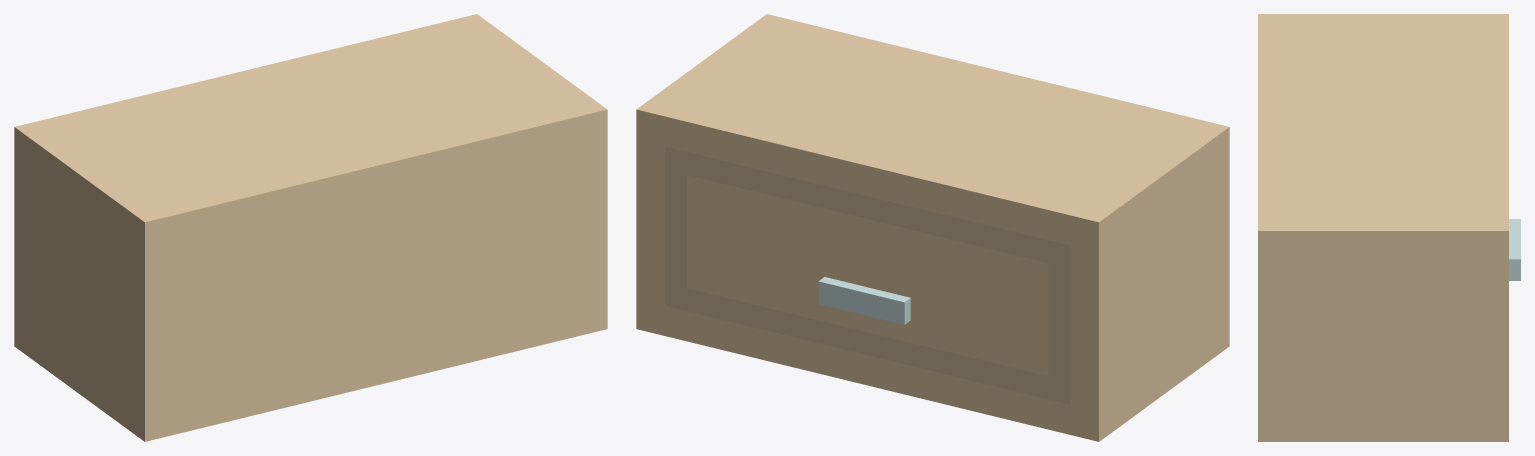
File: kitchenCabinetUpperLow.glb
3 renders of one model, left to right at view 1: azimuth 30°, elevation 25°; view 2: azimuth 150°, elevation 25°; view 3: azimuth 270°, elevation 25°, orthographic. The views are drawn at different scales.
Visible parts, largest first — view 1: kitchenCabinetUpperLow; view 2: kitchenCabinetUpperLow; view 3: kitchenCabinetUpperLow.
Boxes of the visible parts, box(x1,y1,x2,y2) form: kitchenCabinetUpperLow: box(14, 14, 607, 441); kitchenCabinetUpperLow: box(636, 14, 1229, 441); kitchenCabinetUpperLow: box(1258, 14, 1520, 441).
Bounding box in the file's own units: 4.3 × 1.95 × 2.2.
